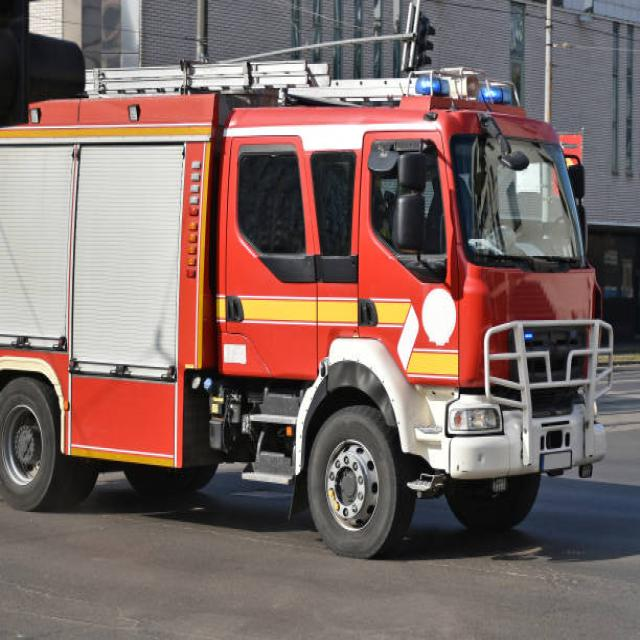emergency: (0, 61, 614, 557)
